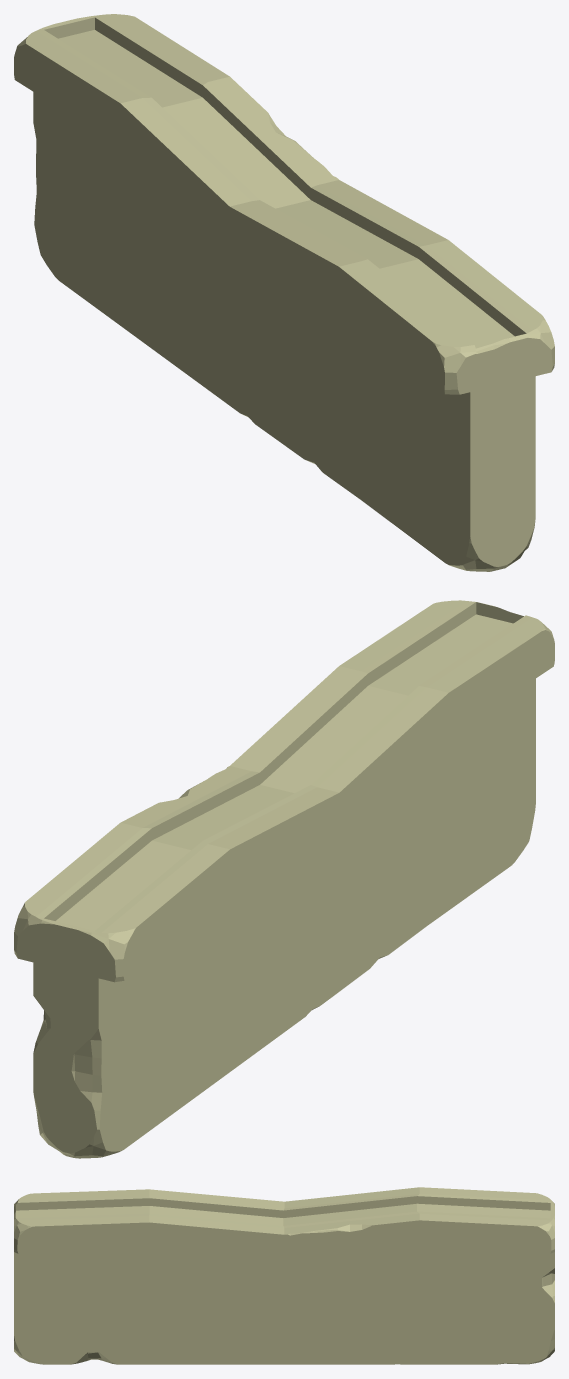
Rendered from Muralla2.fbx.
The picture shows the model from 3 angles, top to bottom: view 1: azimuth 30°, elevation 25°; view 2: azimuth 150°, elevation 25°; view 3: azimuth 270°, elevation 25°; orthographic projection. The views are drawn at different scales.
Visible parts, largest first — view 1: Cube.002_dmg; view 2: Cube.002_dmg; view 3: Cube.002_dmg.
Part boxes in pixels (x1,y1,x2,y2): Cube.002_dmg: (14, 14, 554, 571); Cube.002_dmg: (14, 600, 554, 1158); Cube.002_dmg: (14, 1187, 554, 1364).
Size of the model in its own units: 531 by 1128 by 3662.
